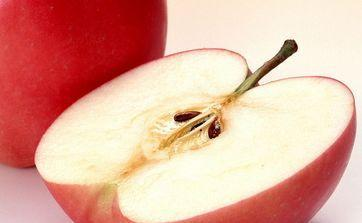apple: (33, 46, 358, 223)
